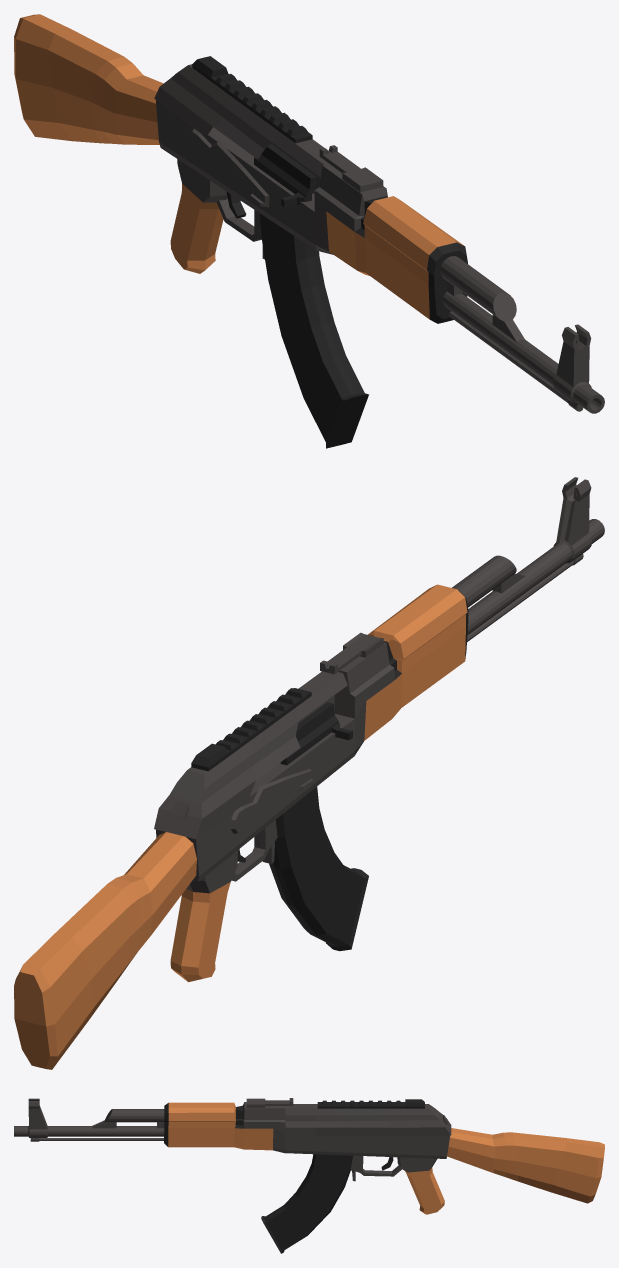
The model's file is VRProjectAK47.fbx.
3 views of the same model, one above another, from view 1: azimuth 30°, elevation 25°; view 2: azimuth 150°, elevation 25°; view 3: azimuth 270°, elevation 25° (orthographic). The views are drawn at different scales.
Visible parts, largest first — view 1: AK-47; view 2: AK-47; view 3: AK-47.
Part boxes in pixels (x1=…): AK-47: x1=14, y1=14, x2=604, y2=448; AK-47: x1=14, y1=477, x2=604, y2=1069; AK-47: x1=14, y1=1098, x2=604, y2=1253.
Size of the model in its own units: 3.54 by 17.58 by 61.99.
